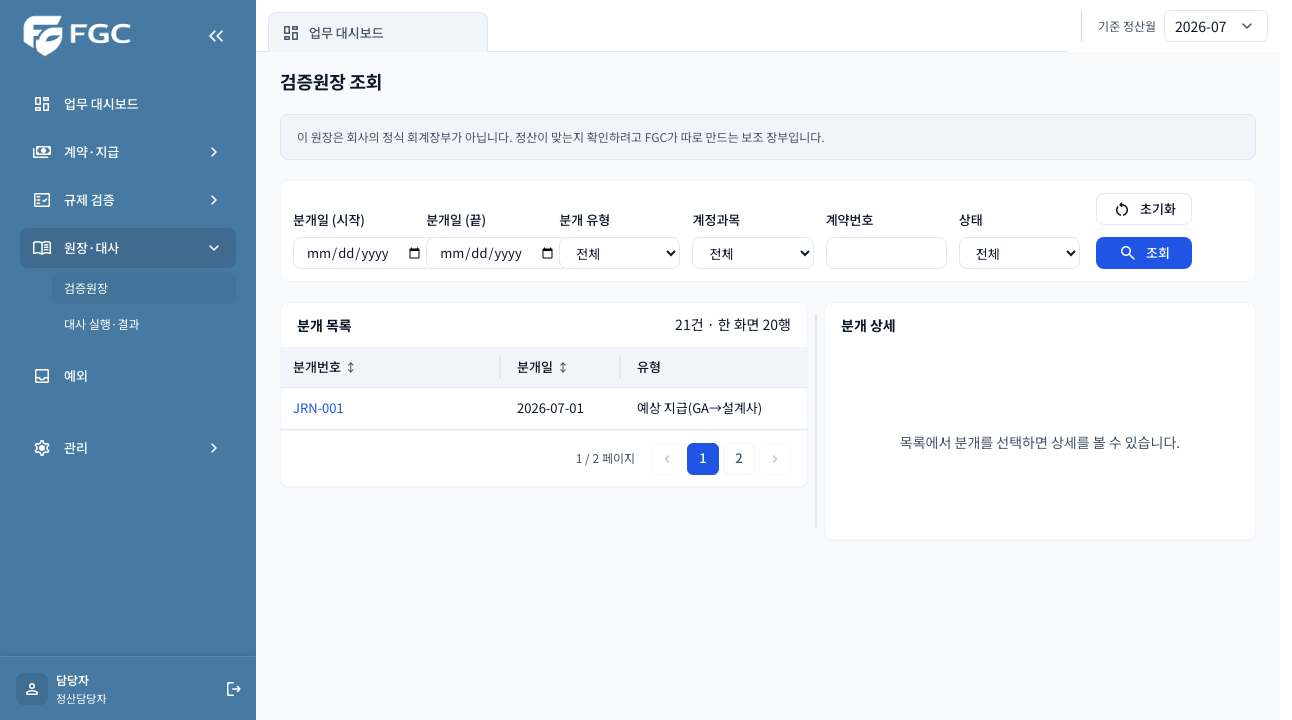
it: LEDG-W01 검증원장 React 전환 › 행 선택은 URL에 selected를 저장하고 상세를 표시한다
Click the button "JRN-001": (318, 408) left=293, top=398, right=344, bottom=418
(page scrolled)
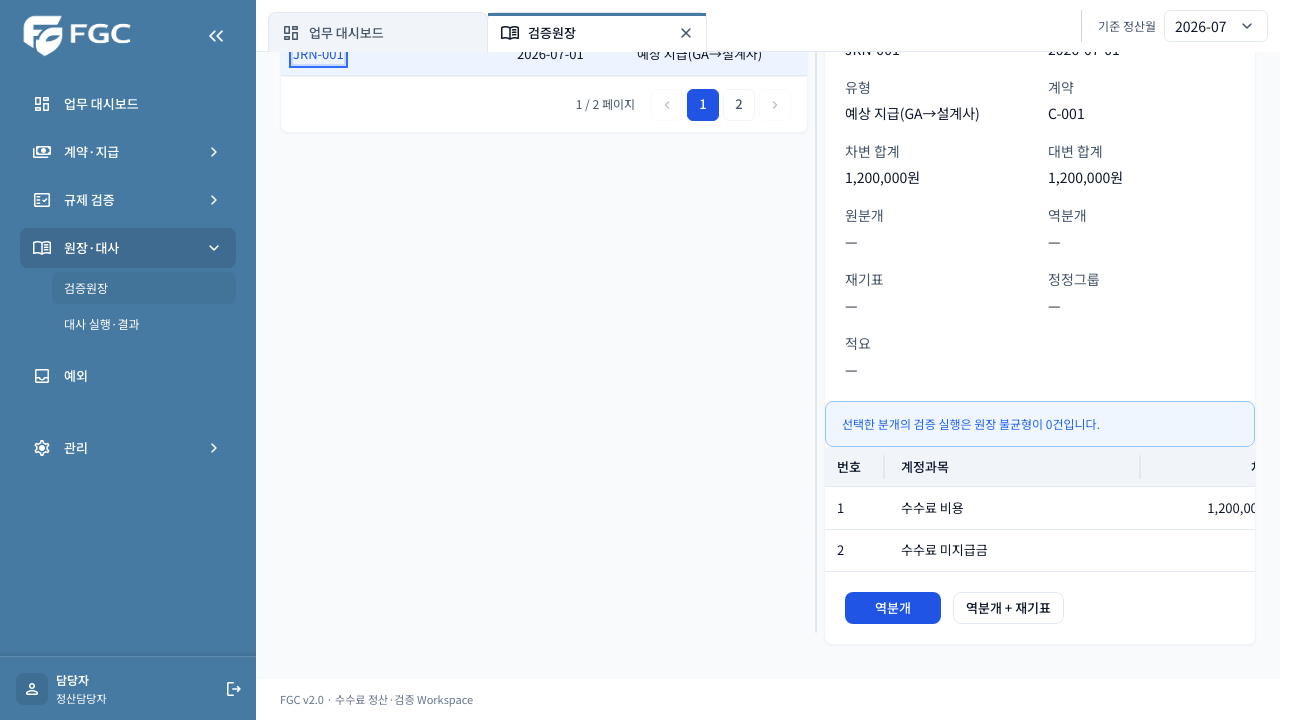
Check: the button "역분개" is enabled, box left=845, top=592, right=941, bottom=624
